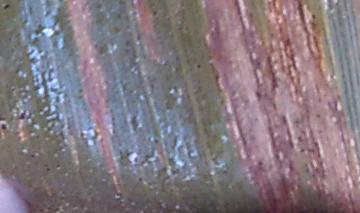tarspot: (280, 113, 295, 153), (266, 53, 279, 95), (233, 1, 245, 34), (43, 102, 60, 124), (125, 149, 140, 167), (49, 14, 60, 38), (41, 67, 49, 100), (32, 65, 41, 92), (213, 73, 224, 94), (32, 23, 47, 38), (129, 114, 140, 132), (46, 65, 55, 83), (108, 35, 116, 53), (91, 127, 100, 142), (18, 109, 28, 120), (254, 90, 263, 102), (58, 130, 66, 143), (20, 16, 31, 25), (167, 156, 176, 167), (270, 100, 278, 112), (170, 167, 180, 176), (284, 35, 291, 47), (306, 146, 315, 155), (135, 32, 143, 42), (194, 62, 203, 70), (76, 93, 85, 101), (171, 85, 179, 94), (114, 190, 123, 198), (49, 85, 58, 93), (43, 9, 52, 17), (95, 2, 104, 10), (1, 121, 8, 131), (75, 87, 85, 94), (297, 147, 307, 154), (296, 134, 303, 144), (54, 94, 61, 104), (78, 130, 86, 138), (124, 39, 132, 47), (2, 3, 11, 10), (256, 160, 265, 167), (310, 11, 317, 19), (93, 41, 100, 49), (54, 163, 63, 169), (153, 136, 159, 145), (29, 152, 36, 159), (314, 112, 321, 119), (137, 175, 143, 183), (116, 11, 122, 19), (151, 9, 157, 16), (255, 60, 261, 67), (45, 167, 51, 172), (56, 1, 65, 4)
